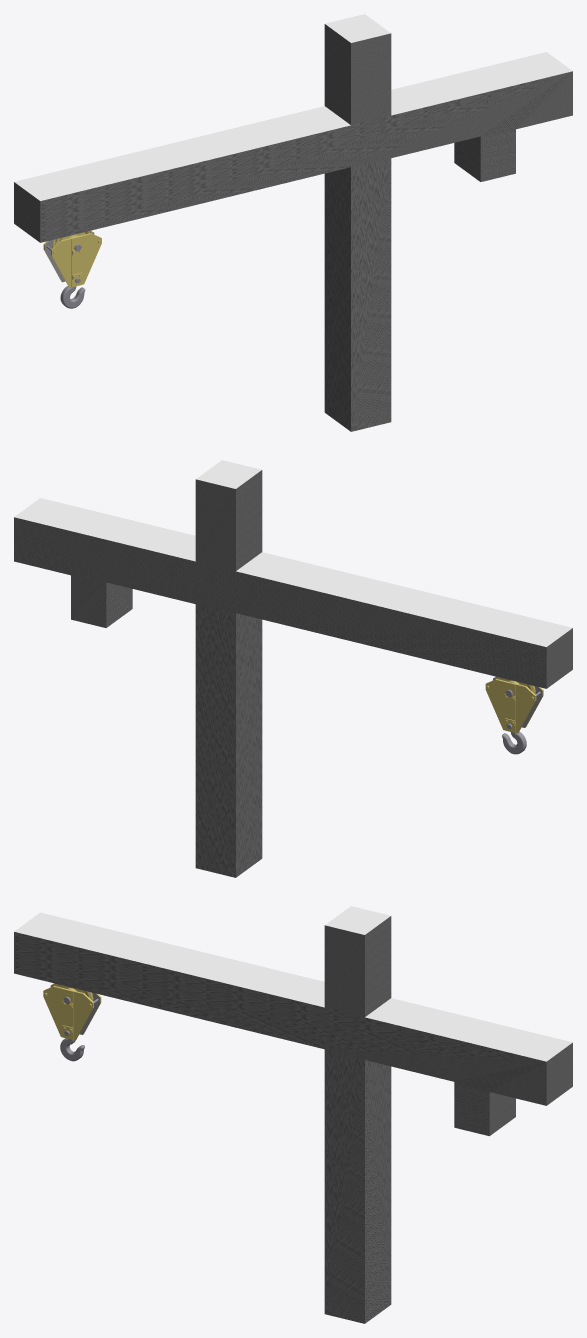
The model's file is CPT Crane Latest Crane Model.3ds.glb.
The picture shows the model from 3 angles, top to bottom: view 1: azimuth 30°, elevation 25°; view 2: azimuth 150°, elevation 25°; view 3: azimuth 330°, elevation 25°; orthographic projection.
Visible parts, largest first — view 1: Model, Group5; view 2: Model, Group5; view 3: Model, Group5.
Boxes of the visible parts, bbox=[...] form: Model: bbox=[14, 14, 572, 431]; Group5: bbox=[43, 231, 101, 287]; Model: bbox=[14, 460, 572, 877]; Group5: bbox=[485, 677, 543, 733]; Model: bbox=[14, 906, 572, 1323]; Group5: bbox=[43, 984, 101, 1040].
Bounding box in the file's own units: 227 × 158 × 19.44.
57 materials, 1 textured.
